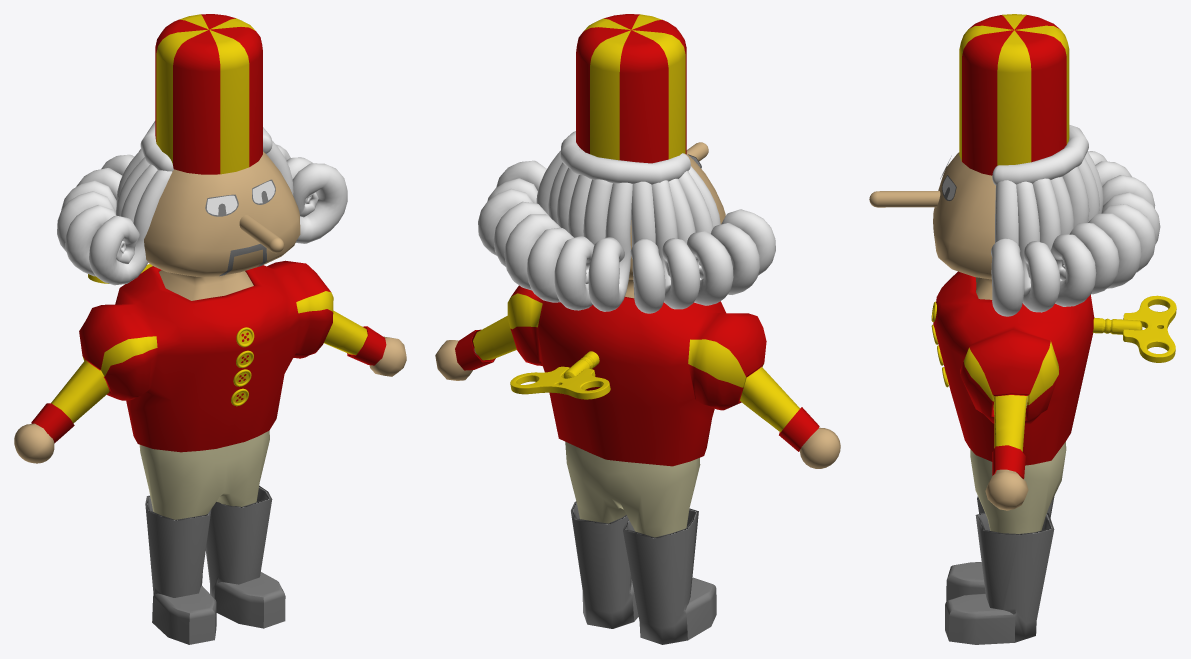
File: SoldierCharacter.fbx
3 views of the same model, side by side, from view 1: azimuth 30°, elevation 25°; view 2: azimuth 150°, elevation 25°; view 3: azimuth 270°, elevation 25° (orthographic). The views are drawn at different scales.
Parts seen in each view (by area): view 1: polySurface4, polySurface1, polySurface2, polySurface11, polySurface3, polySurface12, pCylinder18, pCylinder16, pCylinder15, polySurface7, pCylinder14, polySurface10 (+9 smaller); view 2: polySurface4, polySurface1, polySurface3, polySurface12, polySurface11, pCylinder8, pCylinder5, pCylinder12, pCylinder9, pCylinder14, pCylinder17, pCylinder6 (+14 smaller); view 3: polySurface4, polySurface1, polySurface11, polySurface2, polySurface3, pCylinder11, pCylinder16, pCylinder13, polySurface22, pCylinder7, pCylinder10, pCylinder17 (+9 smaller).
Boxes of the visible parts, x1=… form: polySurface4: x1=79, y1=260, x2=333, y2=452; polySurface1: x1=155, y1=14, x2=262, y2=174; polySurface2: x1=144, y1=151, x2=300, y2=300; polySurface11: x1=205, y1=486, x2=285, y2=628; polySurface3: x1=139, y1=430, x2=269, y2=519; polySurface12: x1=145, y1=495, x2=216, y2=644; pCylinder18: x1=89, y1=170, x2=172, y2=285; pCylinder16: x1=266, y1=140, x2=347, y2=243; pCylinder15: x1=65, y1=164, x2=157, y2=276; polySurface7: x1=51, y1=360, x2=109, y2=423; pCylinder14: x1=57, y1=157, x2=149, y2=251; polySurface10: x1=14, y1=423, x2=54, y2=463; polySurface4: x1=507, y1=285, x2=766, y2=466; polySurface1: x1=576, y1=14, x2=686, y2=163; polySurface3: x1=565, y1=441, x2=700, y2=537; polySurface12: x1=623, y1=508, x2=716, y2=644; polySurface11: x1=571, y1=501, x2=638, y2=628; pCylinder8: x1=588, y1=182, x2=632, y2=311; pCylinder5: x1=554, y1=179, x2=612, y2=310; pCylinder12: x1=651, y1=180, x2=699, y2=309; pCylinder9: x1=630, y1=181, x2=665, y2=313; pCylinder14: x1=669, y1=178, x2=733, y2=305; pCylinder17: x1=560, y1=131, x2=690, y2=184; pCylinder6: x1=527, y1=174, x2=591, y2=302; polySurface4: x1=933, y1=271, x2=1094, y2=465; polySurface1: x1=959, y1=14, x2=1069, y2=175; polySurface11: x1=945, y1=512, x2=1054, y2=644; polySurface2: x1=933, y1=152, x2=995, y2=299; polySurface3: x1=970, y1=396, x2=1066, y2=533; pCylinder11: x1=1032, y1=178, x2=1096, y2=306; pCylinder16: x1=991, y1=167, x2=1024, y2=316; pCylinder13: x1=1016, y1=181, x2=1060, y2=312; polySurface22: x1=1092, y1=295, x2=1176, y2=362; pCylinder7: x1=1062, y1=166, x2=1141, y2=288; pCylinder10: x1=1051, y1=176, x2=1119, y2=294; pCylinder17: x1=992, y1=125, x2=1088, y2=185.
Bounding box in the file's own units: 5.92 × 8.46 × 3.99.
